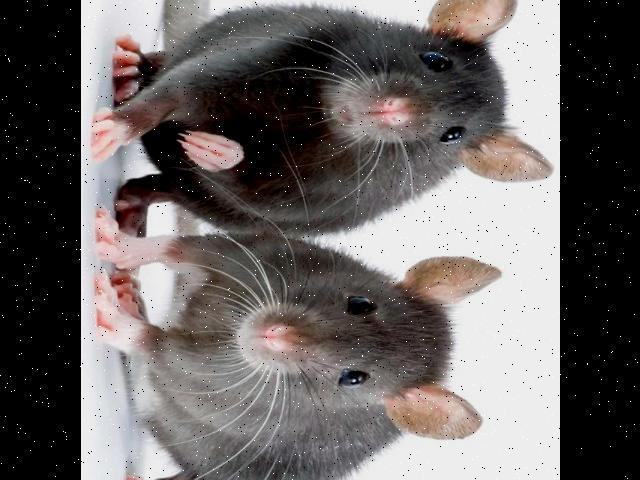Tikus: (93, 0, 554, 233), (92, 236, 504, 480)
